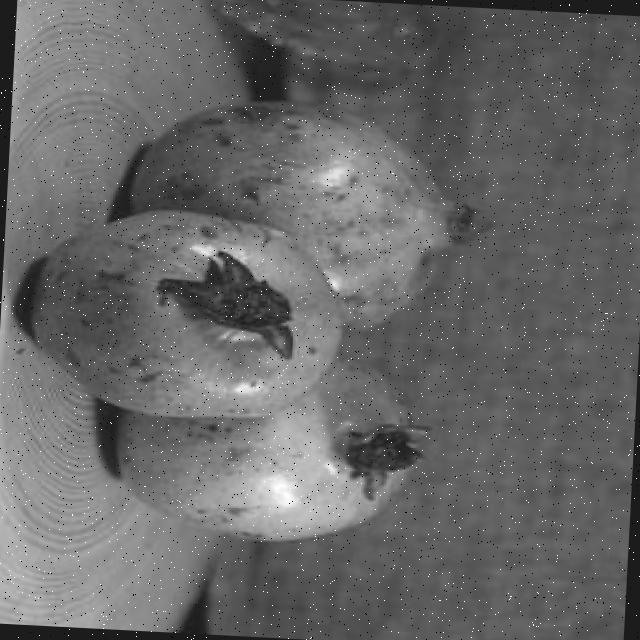overripe: (19, 195, 350, 432), (95, 90, 498, 224), (110, 418, 428, 554)
